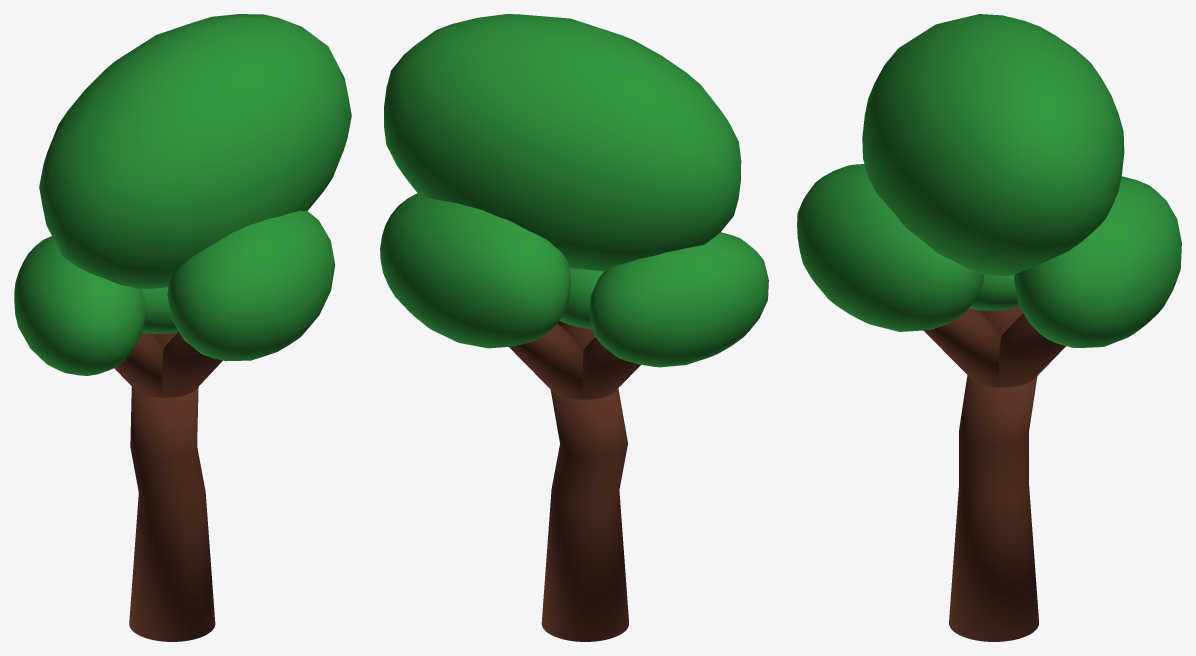
File: Tree_2.fbx
3 views of the same model, side by side, from view 1: azimuth 30°, elevation 25°; view 2: azimuth 150°, elevation 25°; view 3: azimuth 270°, elevation 25° (orthographic). The views are drawn at different scales.
Visible parts, largest first — view 1: Tree; view 2: Tree; view 3: Tree.
Part boxes in pixels (x1,y1,x2,y2): Tree: [14, 14, 351, 641]; Tree: [380, 14, 768, 641]; Tree: [797, 14, 1181, 641].
Bounding box in the file's own units: 461 × 771 × 443.
